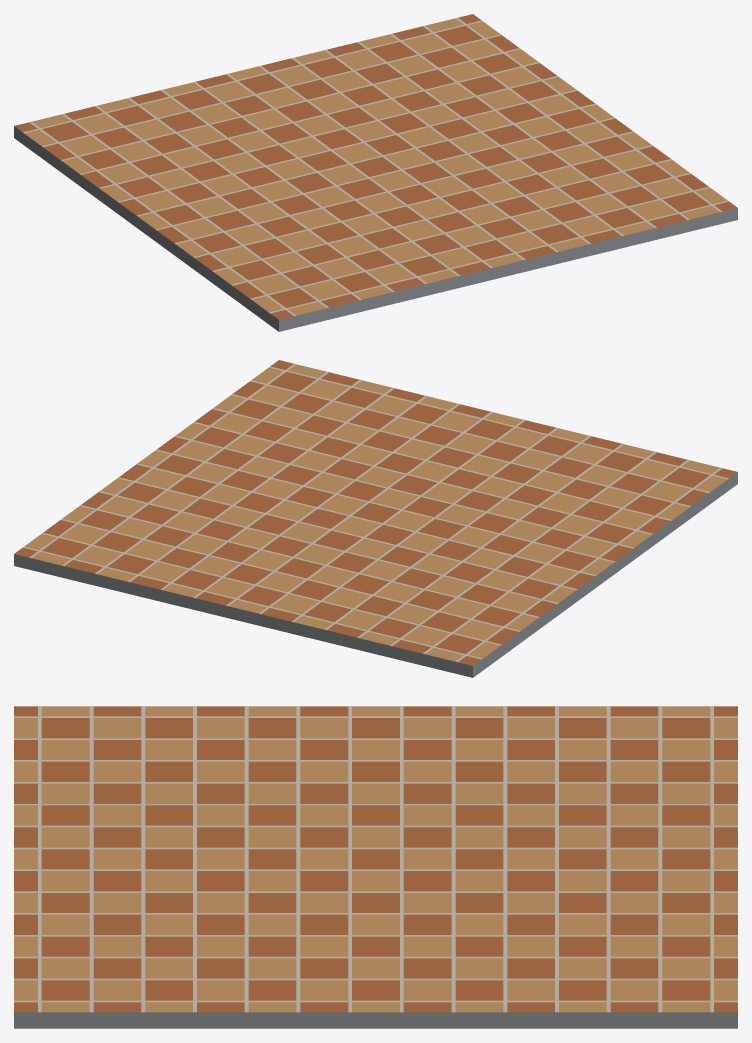
Rendered from cafe-encaustic-floor-tile-7b0bc4.glb.
The picture shows the model from 3 angles, top to bottom: view 1: azimuth 30°, elevation 25°; view 2: azimuth 150°, elevation 25°; view 3: azimuth 270°, elevation 25°; orthographic projection. The views are drawn at different scales.
Parts seen in each view (by area): view 1: encaustic-slab; view 2: encaustic-slab; view 3: encaustic-slab.
Part boxes in pixels (bbox=[...]): encaustic-slab: bbox=[14, 14, 737, 331]; encaustic-slab: bbox=[14, 360, 737, 677]; encaustic-slab: bbox=[14, 706, 737, 1028].
Bounding box in the file's own units: 2 × 0.05 × 2.
